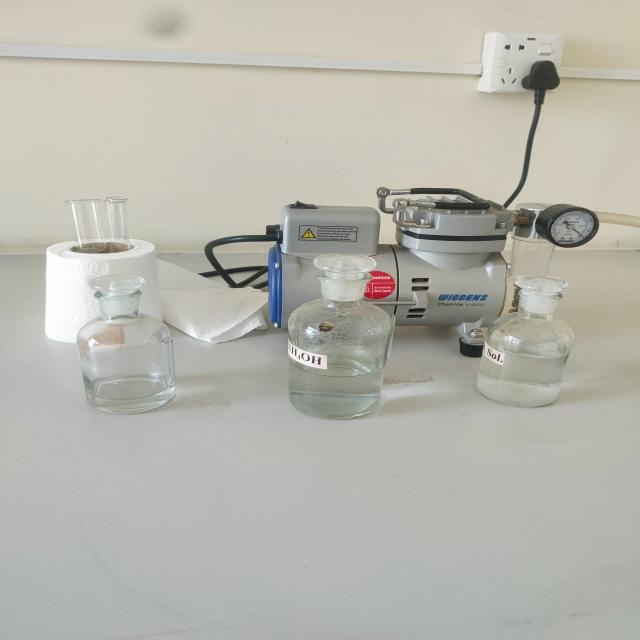Reagent_Bottle: (256, 229, 427, 445), (52, 255, 195, 432), (461, 256, 601, 425)
